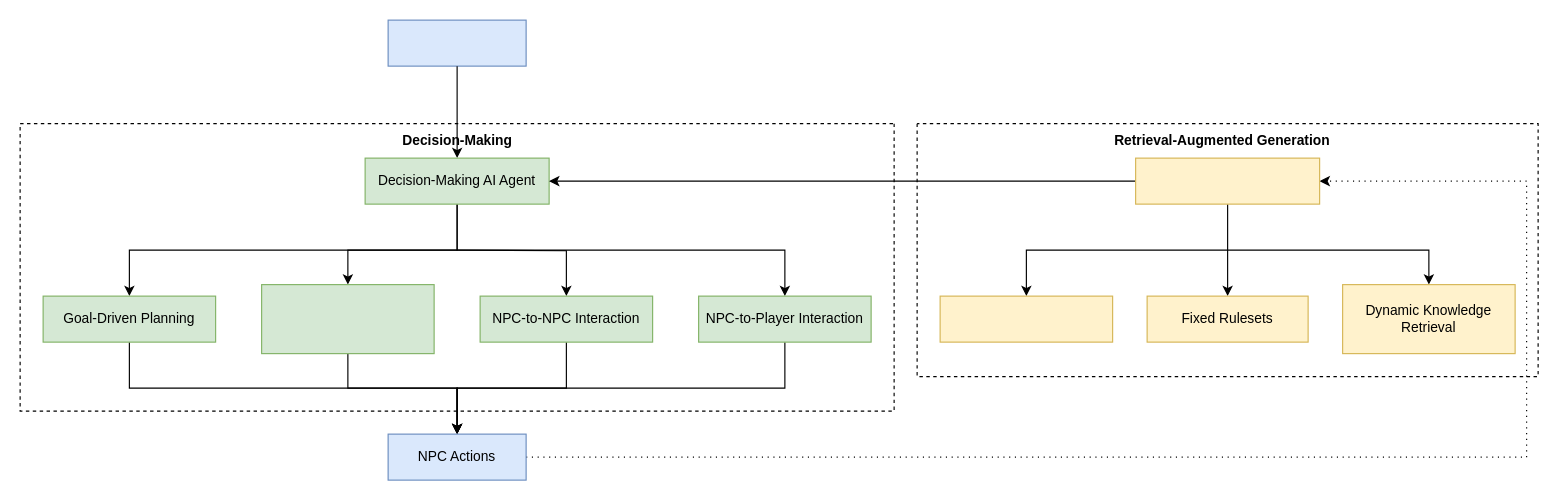
This 1559x500 diagram has some shape labels left out. Here are the shapes that lost their labels. From the top down, the centre of each, then its label:
point (456, 42): Player Actions
point (1227, 180): Environment Context controller
point (347, 318): Contextual Behavior Generation
point (1026, 318): Long-Term Memory
